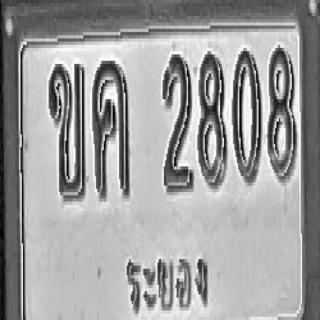A02: (49, 61, 86, 198)
A04: (93, 58, 130, 198)
N00: (232, 46, 261, 184)
N02: (162, 51, 193, 192)
N08: (197, 51, 227, 189), (267, 45, 296, 179)
P53: (118, 243, 214, 320)
